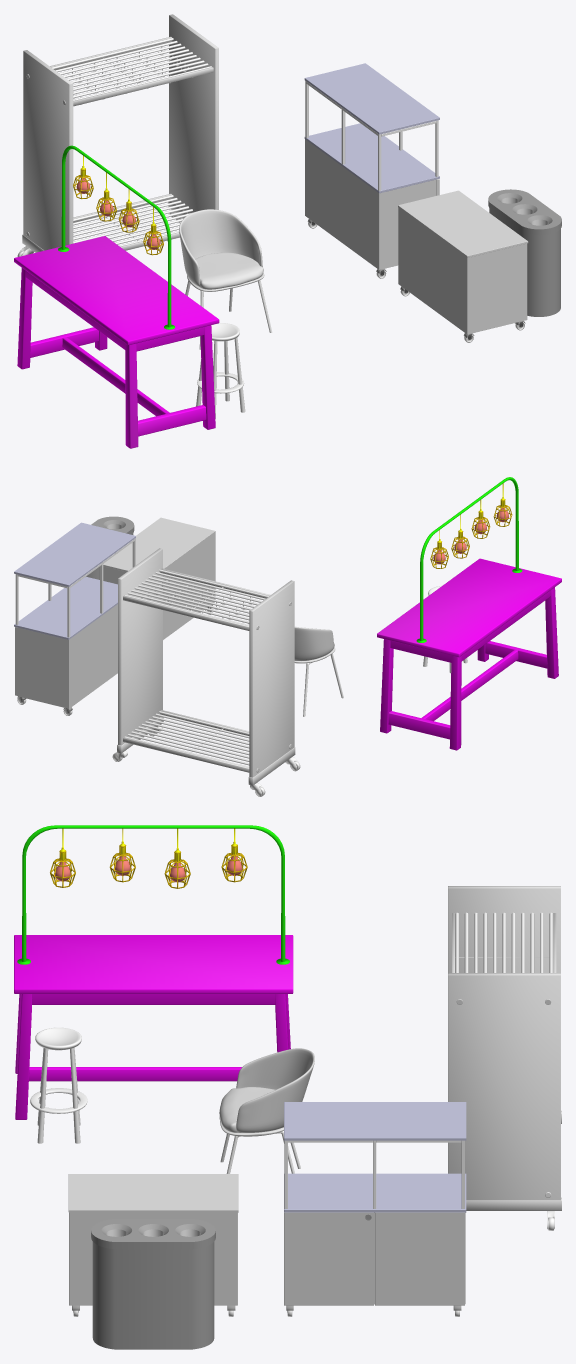
File: Furniture (1).fbx
3 renders of one model, top to bottom at view 1: azimuth 30°, elevation 25°; view 2: azimuth 150°, elevation 25°; view 3: azimuth 270°, elevation 25°, orthographic. The views are drawn at different scales.
Parts seen in each view (by area): view 1: CoatHangers, BarTable, Stand_High, Stand_Low, Stool_1, TrashaBin_Metal, BarStool; view 2: CoatHangers, BarTable, Stand_High, Stand_Low, Stool_1, TrashaBin_Metal; view 3: CoatHangers, Stand_High, BarTable, TrashaBin_Metal, Stand_Low, Stool_1, BarStool.
Part boxes in pixels (x1,y1,x2,y2): CoatHangers: (17,14,218,256); BarTable: (14,145,219,448); Stand_High: (304,63,439,278); Stand_Low: (398,190,528,342); Stool_1: (179,209,272,349); TrashaBin_Metal: (488,189,561,316); BarStool: (196,323,245,418); CoatHangers: (112,548,300,796); BarTable: (377,477,561,750); Stand_High: (14,522,135,715); Stand_Low: (99,517,215,639); Stool_1: (294,626,343,716); TrashaBin_Metal: (86,516,134,579); CoatHangers: (448,886,561,1230); Stand_High: (284,1102,466,1316); BarTable: (14,825,293,1119); TrashaBin_Metal: (91,1219,215,1349); Stand_Low: (68,1174,238,1316); Stool_1: (219,1048,314,1173); BarStool: (30,1027,87,1143).
Bounding box in the file's own units: 473 × 210 × 388.
